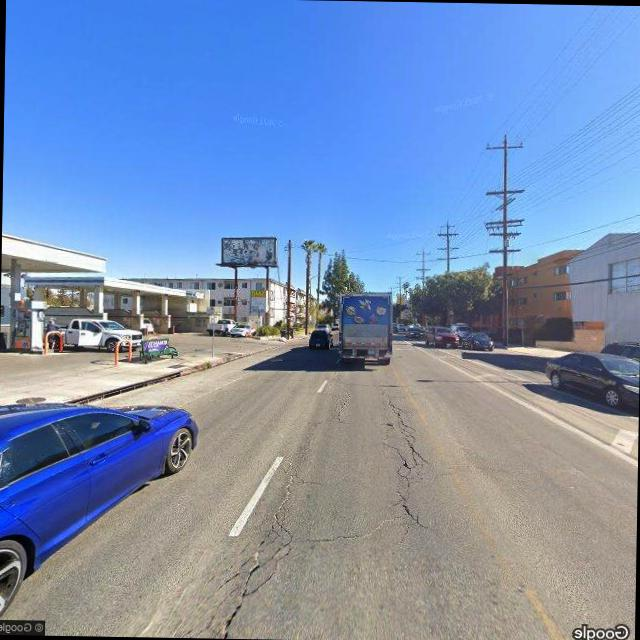pothole: (210, 464, 300, 638), (380, 387, 427, 549)
